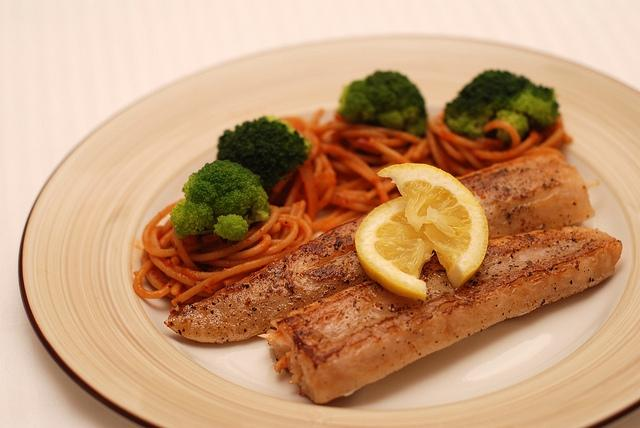broccoli: (169, 159, 271, 242), (444, 70, 561, 140), (217, 116, 312, 188), (338, 70, 428, 138), (492, 108, 530, 140)
lemon: (376, 164, 489, 288), (355, 196, 434, 300)
